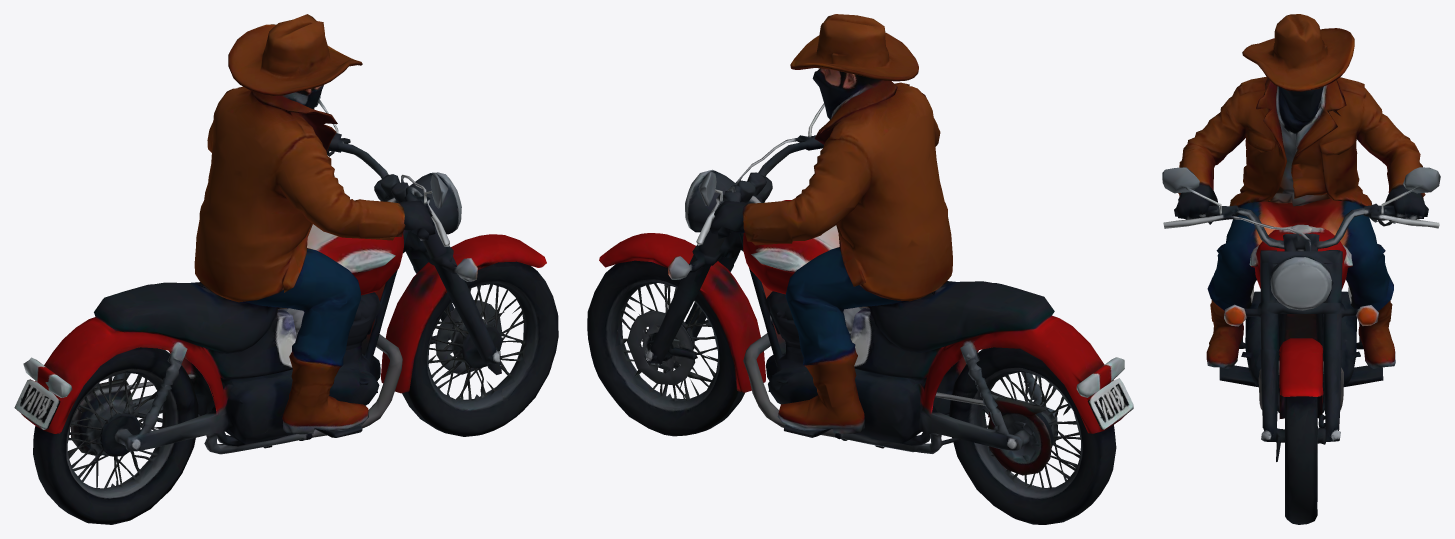
Rendered from outlaw.glb.
3 renders of one model, left to right at view 1: azimuth 30°, elevation 25°; view 2: azimuth 150°, elevation 25°; view 3: azimuth 270°, elevation 25°, orthographic. The views are drawn at different scales.
Visible parts, largest first — view 1: tripo_node_2ee7ddee-08ba-4a13-a63d-18b9f4d9c304; view 2: tripo_node_2ee7ddee-08ba-4a13-a63d-18b9f4d9c304; view 3: tripo_node_2ee7ddee-08ba-4a13-a63d-18b9f4d9c304.
Part boxes in pixels (left/top/right/bottom): tripo_node_2ee7ddee-08ba-4a13-a63d-18b9f4d9c304: left=14, top=14, right=558, bottom=524; tripo_node_2ee7ddee-08ba-4a13-a63d-18b9f4d9c304: left=587, top=14, right=1133, bottom=524; tripo_node_2ee7ddee-08ba-4a13-a63d-18b9f4d9c304: left=1162, top=14, right=1440, bottom=524.
Size of the model in its own units: 2.18 by 1.8 by 1.09.
Materials: 1 (1 with a texture image).
